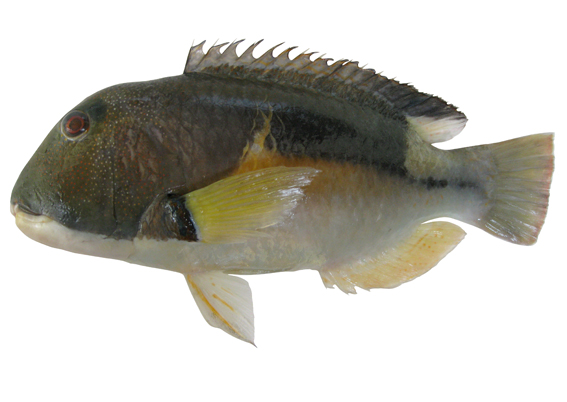fish: (10, 38, 555, 348)
